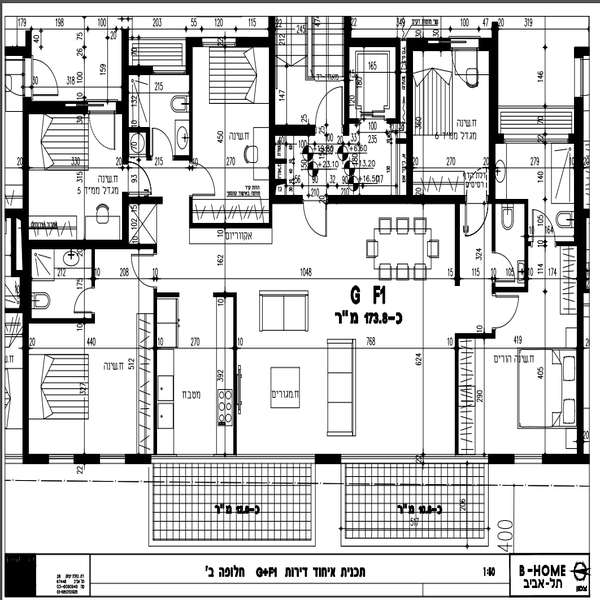door: (177, 148, 221, 200), (311, 82, 348, 138), (117, 150, 160, 197), (76, 105, 123, 147), (296, 194, 332, 247), (21, 52, 62, 98), (445, 48, 483, 97), (124, 250, 165, 292), (487, 246, 521, 286), (492, 291, 522, 334), (462, 198, 488, 243), (148, 126, 183, 153), (73, 286, 102, 314)
room: (261, 192, 465, 458), (120, 24, 266, 234), (261, 31, 415, 200), (450, 327, 587, 466), (7, 100, 123, 257), (15, 93, 130, 246), (147, 291, 247, 464)
wall: (572, 98, 588, 456), (17, 244, 36, 461), (264, 17, 282, 224), (179, 35, 201, 163), (484, 39, 501, 200), (405, 29, 421, 195), (119, 22, 137, 163), (17, 109, 36, 241), (148, 293, 161, 460), (230, 289, 243, 456), (452, 331, 467, 455), (327, 193, 470, 204), (189, 215, 266, 235), (26, 98, 96, 119), (30, 236, 127, 249), (516, 204, 531, 285), (450, 206, 464, 284), (118, 192, 136, 243), (540, 446, 588, 464), (455, 325, 495, 344), (482, 192, 529, 208), (236, 33, 275, 50), (490, 199, 502, 251), (491, 283, 537, 296), (485, 447, 513, 467), (311, 452, 345, 465)
window: (148, 454, 322, 466), (567, 57, 595, 96), (512, 447, 542, 468), (46, 451, 77, 469), (96, 449, 126, 466)
